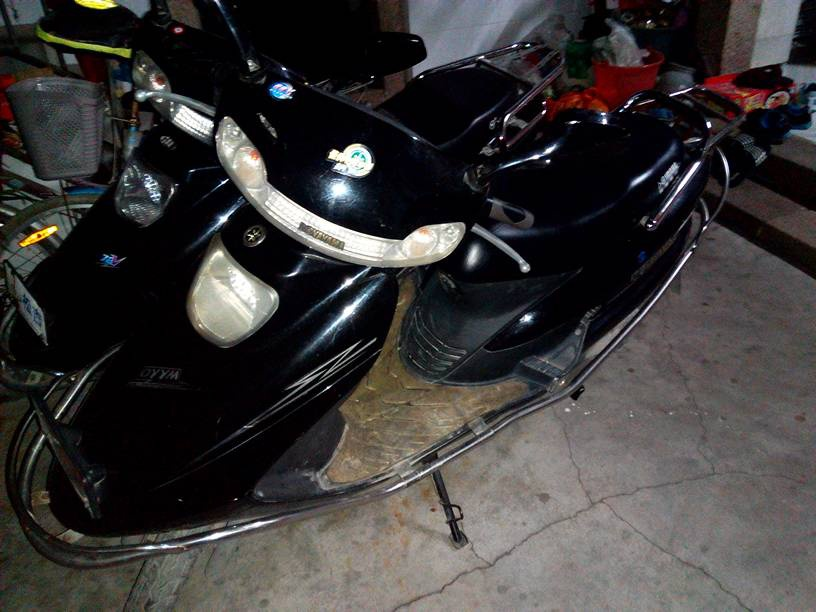non-vehicle: (13, 78, 752, 573), (1, 20, 558, 367)
